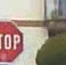stop: (1, 17, 25, 64)
